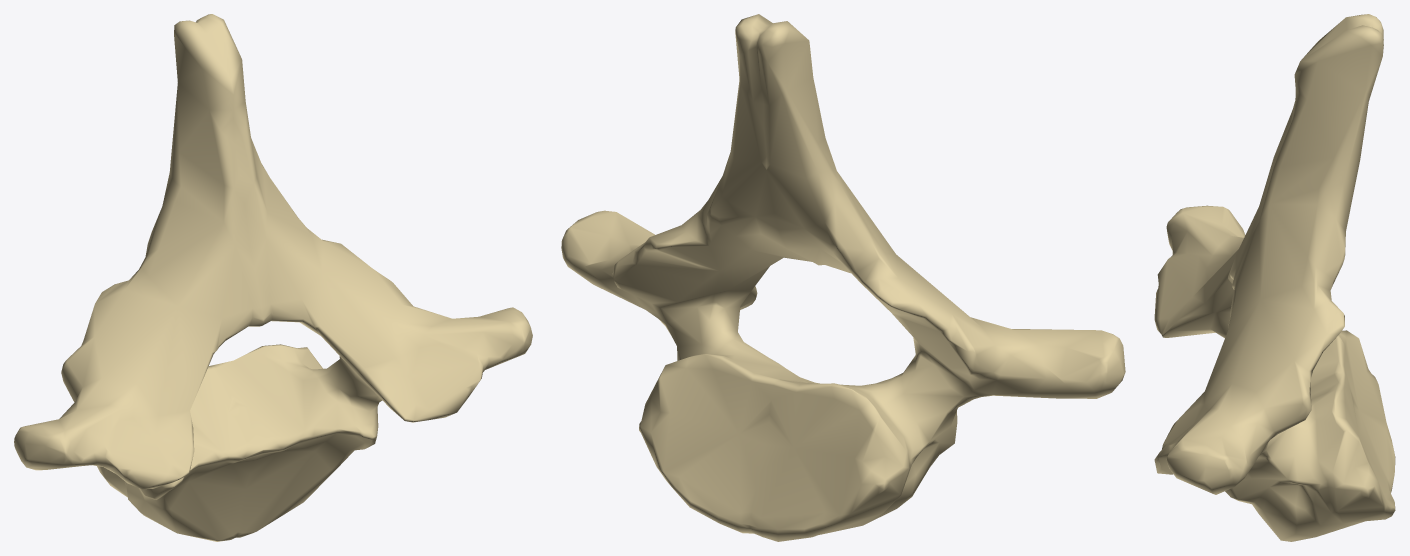
3 renders of one model, left to right at view 1: azimuth 30°, elevation 25°; view 2: azimuth 150°, elevation 25°; view 3: azimuth 270°, elevation 25°, orthographic. The views are drawn at different scales.
Parts seen in each view (by area): view 1: 第一胸椎; view 2: 第一胸椎; view 3: 第一胸椎.
Boxes of the visible parts, x1,y1,x2,y2 form: 第一胸椎: (14, 14, 532, 541); 第一胸椎: (561, 14, 1125, 541); 第一胸椎: (1154, 14, 1395, 541).
Bounding box in the file's own units: 0.1145 × 0.1064 × 0.0453.
